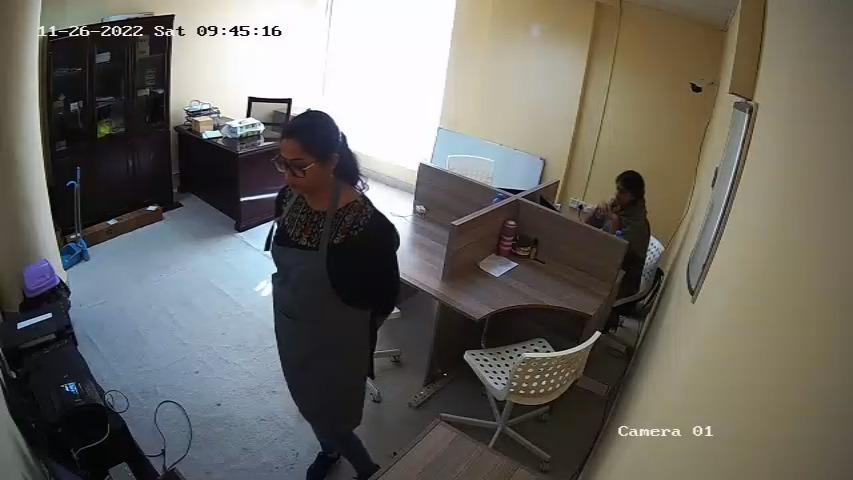apron: (272, 200, 371, 383)
